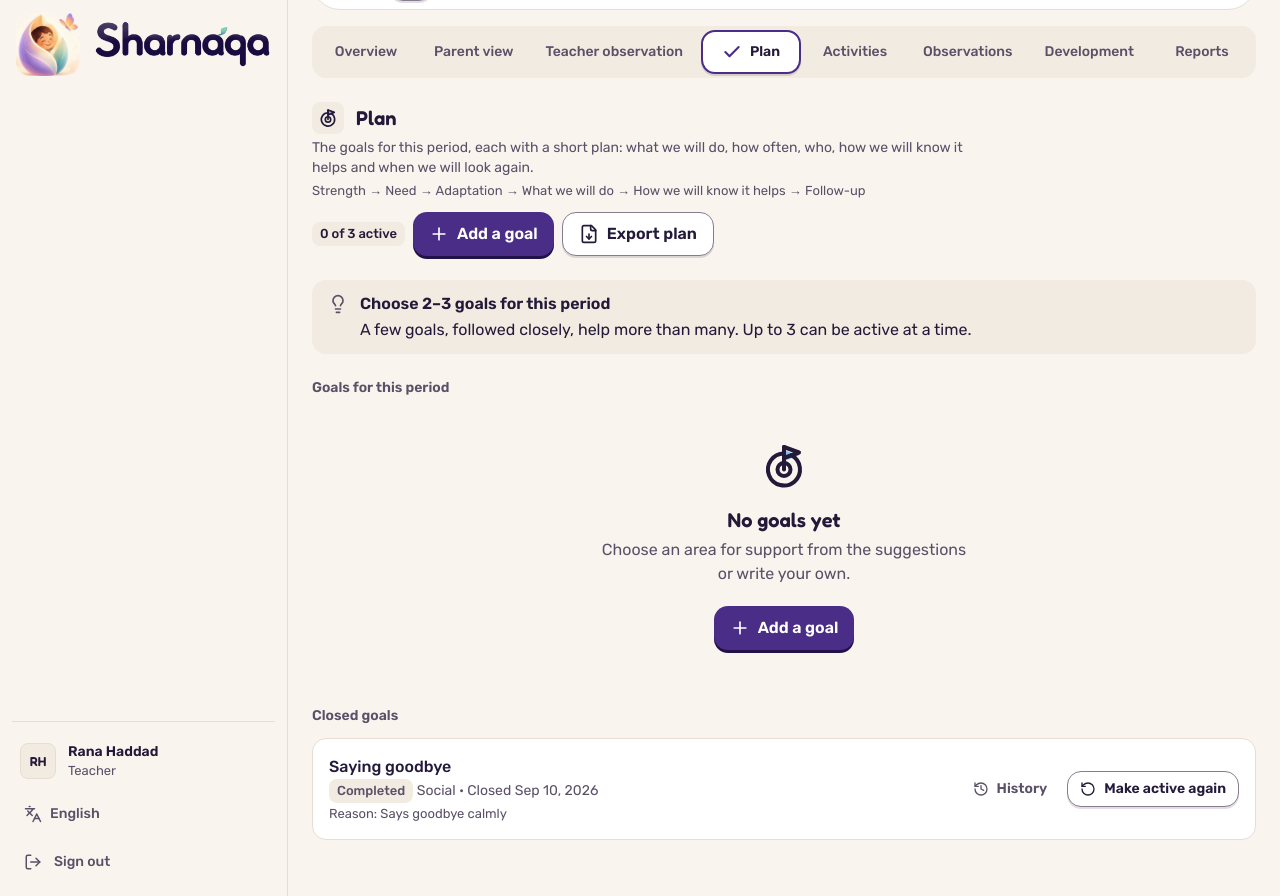
Test: Plan tab › keeps every closure in the goal history
(page scrolled)
Click the button "History": coordinates (1010, 789) [961,771,1059,807]
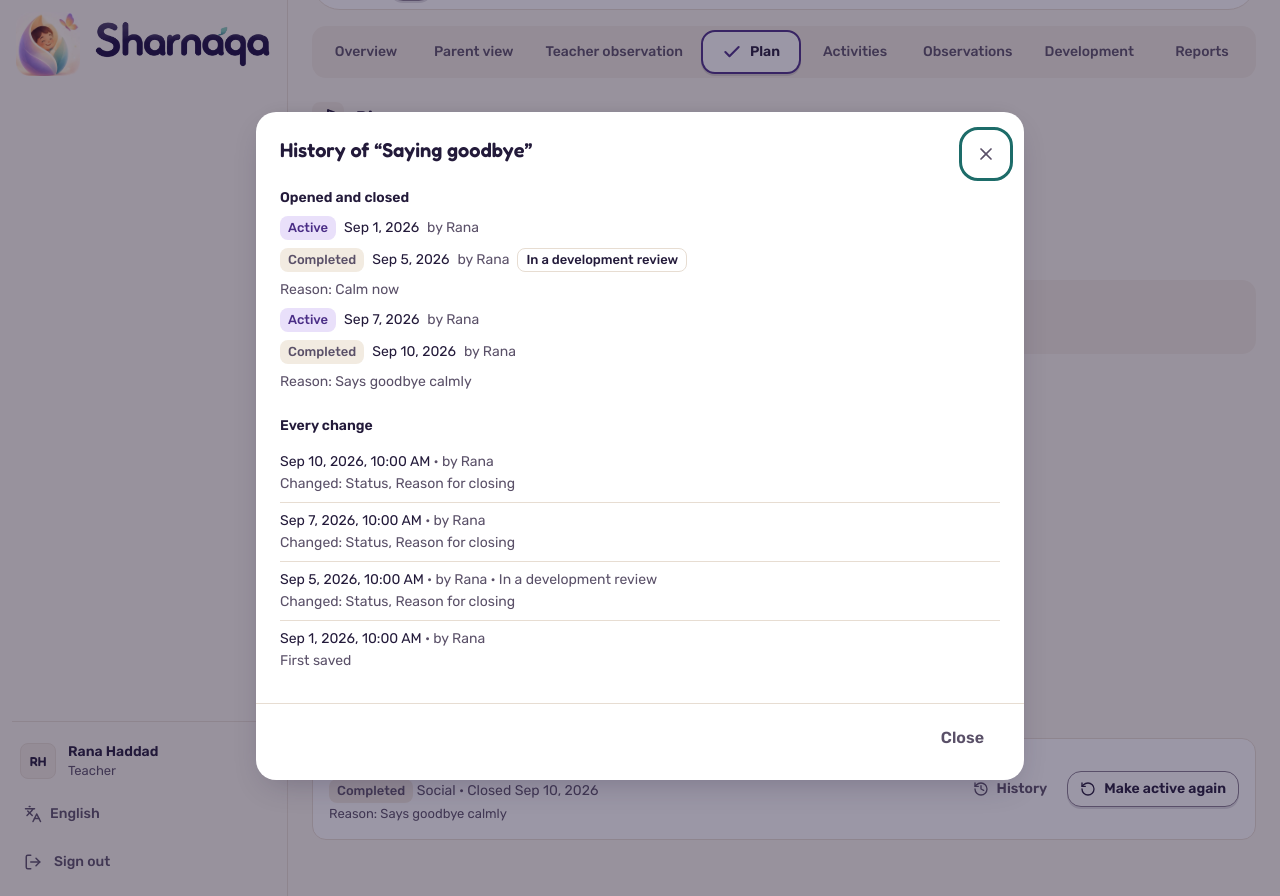
Expected: the number of list items with test id "status-change" is 4, [280,216,479,240]; [280,248,687,298]; [280,308,479,332]; [280,340,516,390]
Expected: the list item with test id "status-change" shows "Reason: Calm now", [280,281,399,298]
Expected: the list item with test id "status-change" shows "In a development review", [526,252,678,267]
